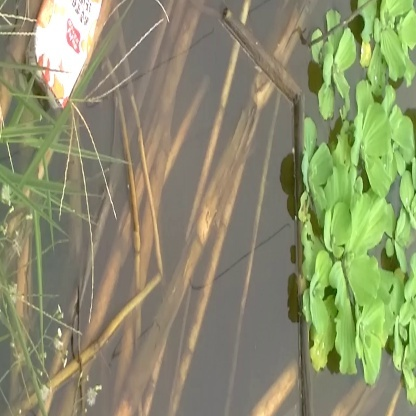branch: (165, 86, 245, 374)
milk-box: (26, 1, 107, 115)
